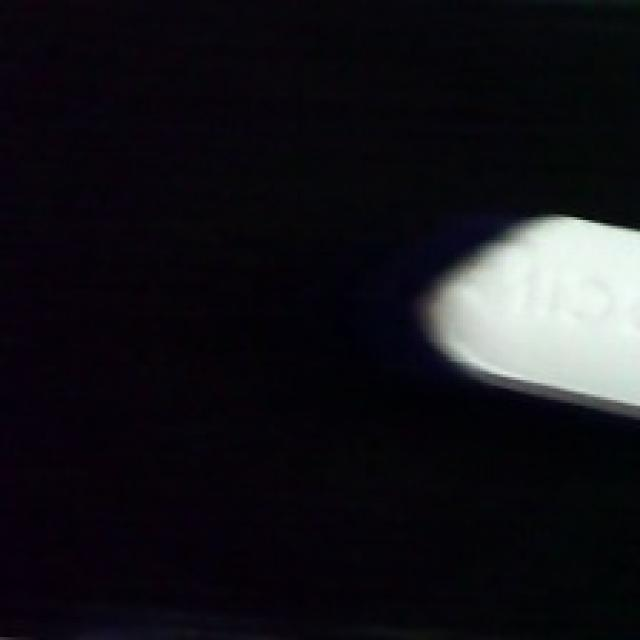defected: (414, 205, 640, 428)
